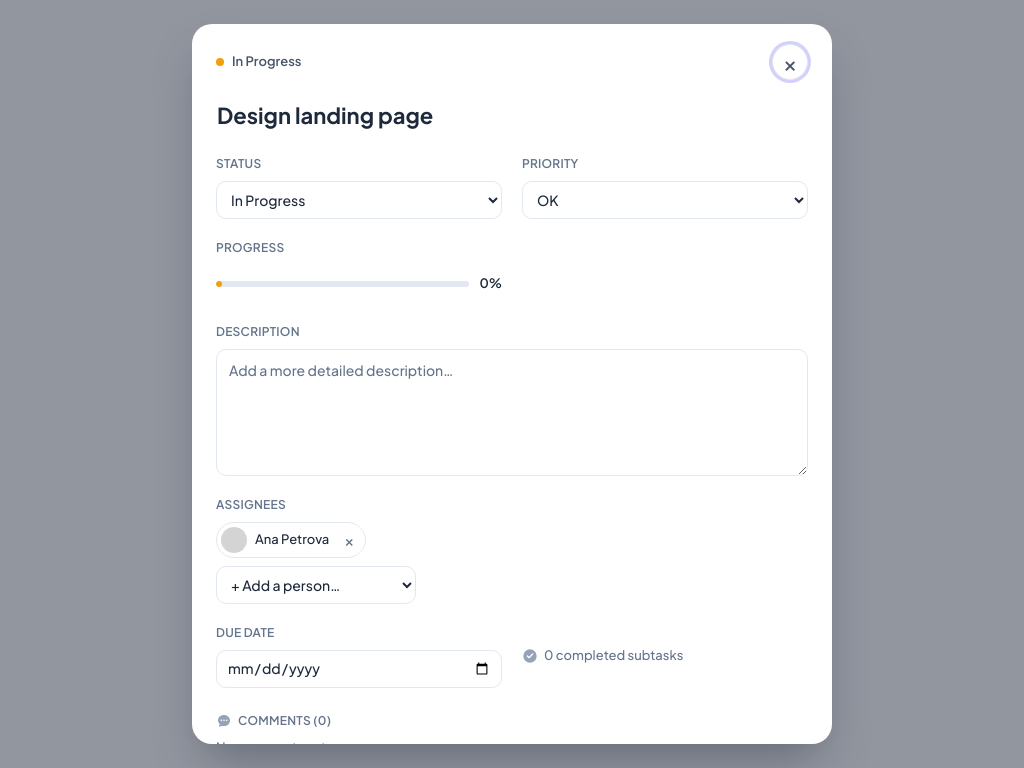
Test: TaskModal: open and close › puts the old title back instead of saving an empty one
The width and height of the screenshot is (1024, 768).
Clear the field named "Title" at (504, 115), box [208,96,800,135]
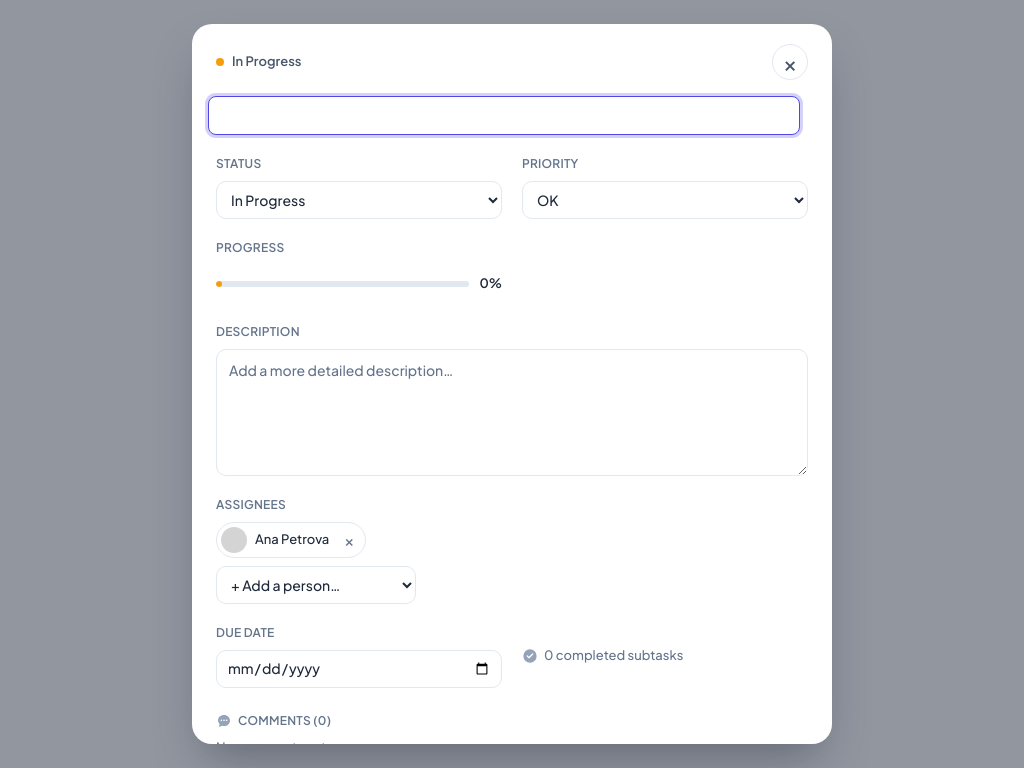
Press Tab
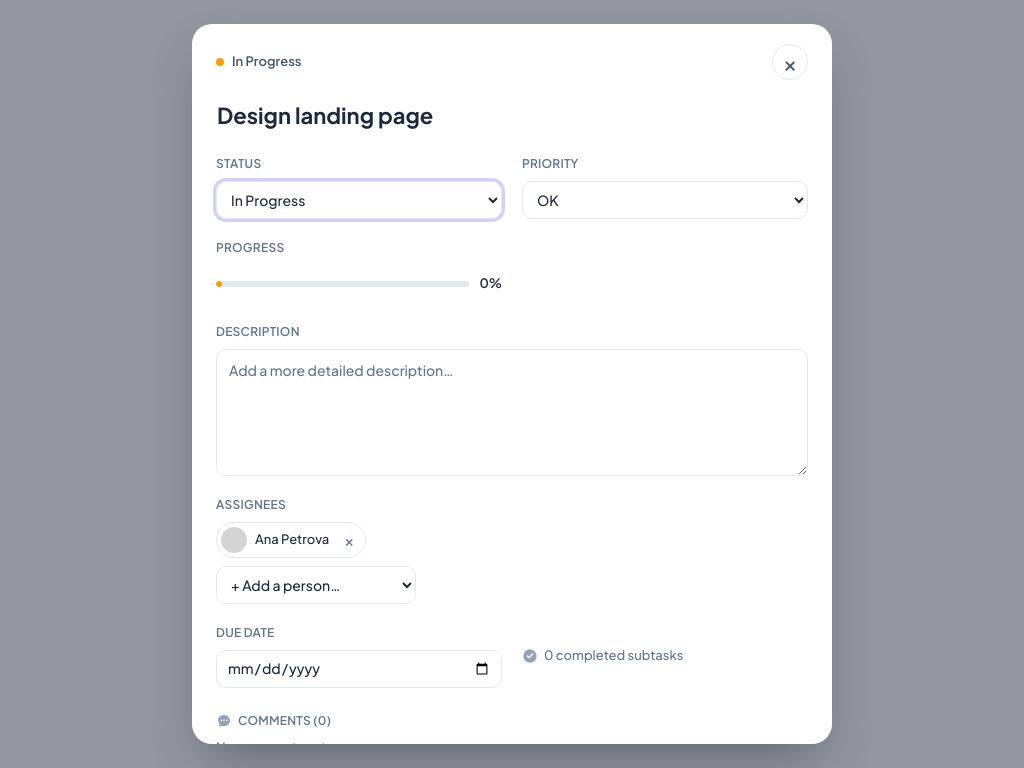
Expected: the field named "Title" holds "Design landing page", [208,96,800,135]
